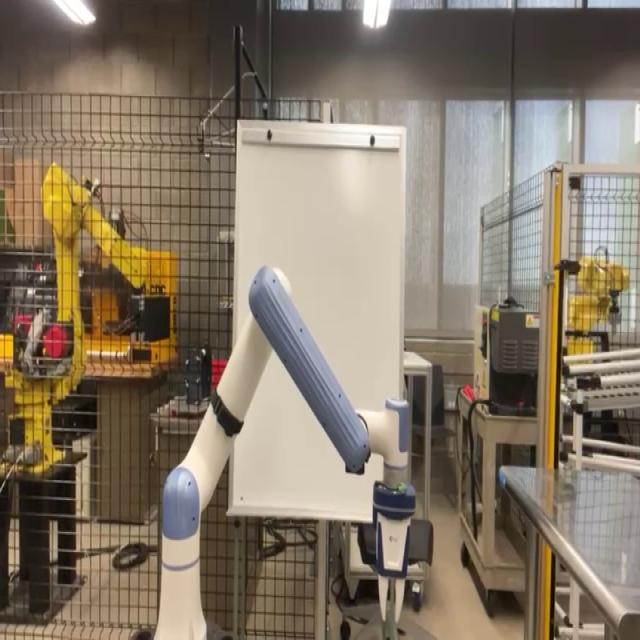robot: (131, 262, 433, 638)
